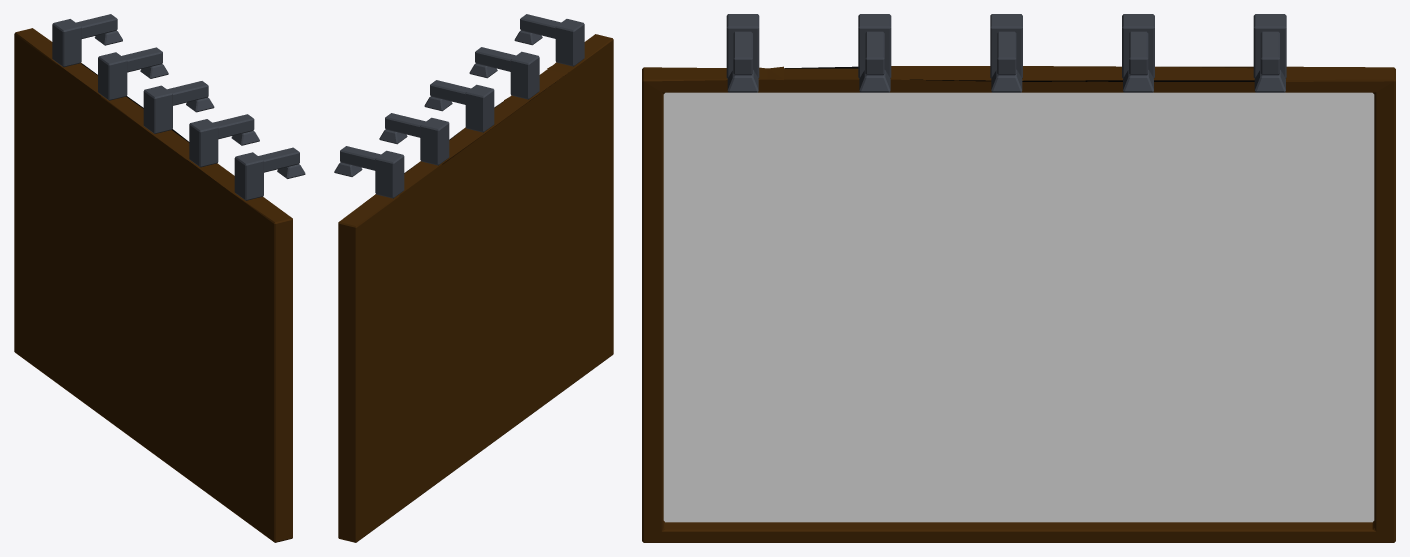
Rendered from Billboard2.fbx.
3 renders of one model, left to right at view 1: azimuth 30°, elevation 25°; view 2: azimuth 150°, elevation 25°; view 3: azimuth 270°, elevation 25°, orthographic. The views are drawn at different scales.
Visible parts, largest first — view 1: Lights; view 2: Lights; view 3: Lights.
Part boxes in pixels (bbox=[...]): Lights: bbox=[14, 14, 305, 542]; Lights: bbox=[334, 14, 613, 542]; Lights: bbox=[642, 14, 1395, 542].
Size of the model in its own units: 114 by 627 by 829.
